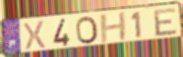1: (130, 11, 142, 40)
4: (52, 18, 71, 48)
E: (153, 7, 179, 38)
H: (99, 10, 129, 45)
O: (75, 15, 100, 45)
X: (23, 20, 47, 52)
